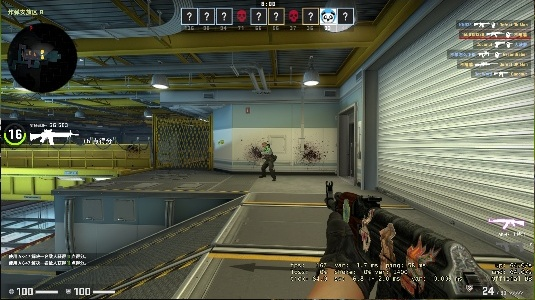body: (258, 141, 279, 182)
head: (261, 142, 269, 150)
